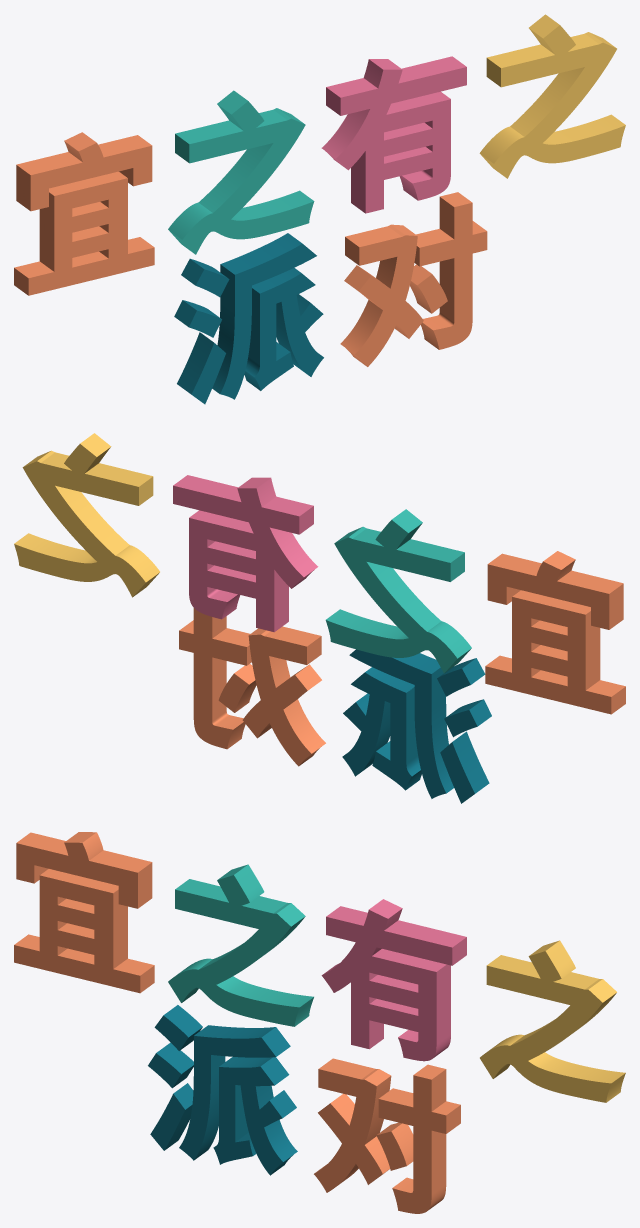
Rendered from island_letters.glb.
3 renders of one model, top to bottom at view 1: azimuth 30°, elevation 25°; view 2: azimuth 150°, elevation 25°; view 3: azimuth 330°, elevation 25°, orthographic.
Visible parts, largest first — view 1: _MeshInstance3D_7, _MeshInstance3D_3, _MeshInstance3D_5, _MeshInstance3D_8, _MeshInstance3D_6, _MeshInstance3D_4; view 2: _MeshInstance3D_3, _MeshInstance3D_7, _MeshInstance3D_5, _MeshInstance3D_8, _MeshInstance3D_6, _MeshInstance3D_4; view 3: _MeshInstance3D_7, _MeshInstance3D_3, _MeshInstance3D_5, _MeshInstance3D_8, _MeshInstance3D_4, _MeshInstance3D_6.
Boxes of the visible parts, x1,y1,x2,y2 form: _MeshInstance3D_7: [174, 233, 323, 404]; _MeshInstance3D_3: [14, 132, 154, 295]; _MeshInstance3D_5: [321, 56, 466, 213]; _MeshInstance3D_8: [340, 192, 487, 366]; _MeshInstance3D_6: [479, 14, 625, 178]; _MeshInstance3D_4: [168, 90, 314, 254]; _MeshInstance3D_3: [485, 551, 625, 714]; _MeshInstance3D_7: [342, 649, 491, 803]; _MeshInstance3D_5: [173, 475, 318, 632]; _MeshInstance3D_8: [179, 608, 325, 766]; _MeshInstance3D_6: [14, 433, 159, 597]; _MeshInstance3D_4: [325, 509, 471, 673]; _MeshInstance3D_7: [148, 1005, 297, 1175]; _MeshInstance3D_3: [14, 832, 154, 993]; _MeshInstance3D_5: [321, 899, 466, 1061]; _MeshInstance3D_8: [314, 1058, 460, 1213]; _MeshInstance3D_4: [168, 864, 313, 1026]; _MeshInstance3D_6: [480, 940, 625, 1102].
Bounding box in the file's own units: 13.04 × 5.89 × 1.05.
